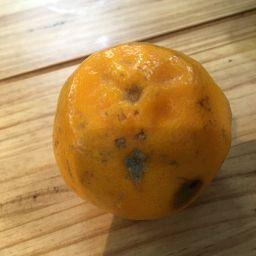Unripe: (53, 44, 233, 219)
